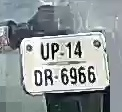1: (66, 41, 73, 60)
4: (73, 39, 83, 60)
6: (87, 63, 97, 86), (60, 68, 70, 86), (78, 65, 86, 84)
9: (68, 67, 78, 85)
D: (31, 70, 43, 88)
P: (50, 41, 59, 63)
R: (42, 67, 54, 89)
U: (40, 42, 50, 61)
